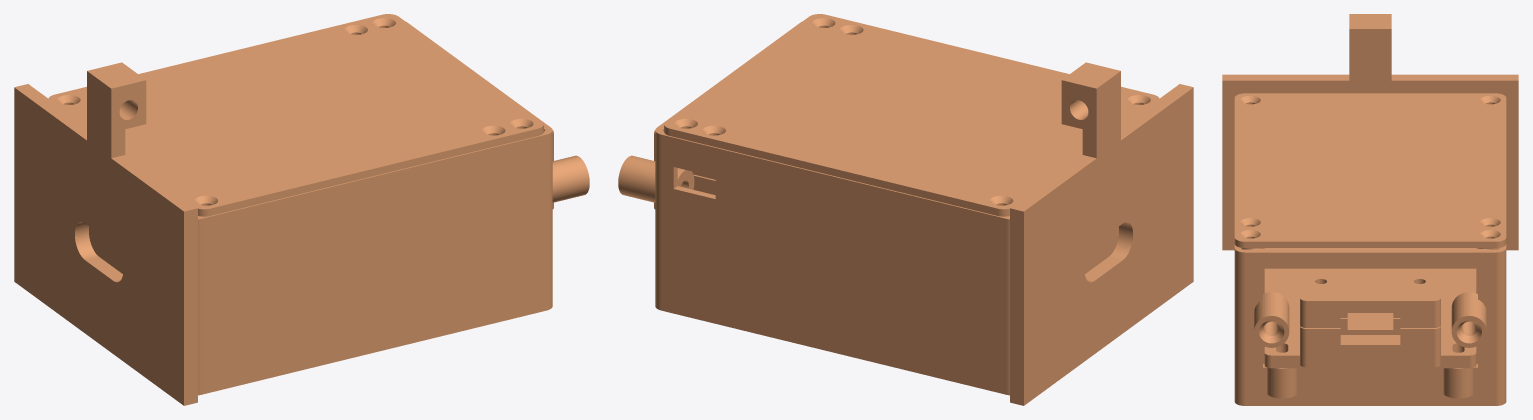
The model's file is battery-r02.glb.
3 views of the same model, side by side, from view 1: azimuth 30°, elevation 25°; view 2: azimuth 150°, elevation 25°; view 3: azimuth 270°, elevation 25° (orthographic). The views are drawn at different scales.
Visible parts, largest first — view 1: BatteryCartridge, BatteryServiceCover; view 2: BatteryCartridge, BatteryServiceCover; view 3: BatteryServiceCover, BatteryCartridge, BatteryXT60Cradle, BatteryXT60CradleCap.
Boxes of the visible parts, <box> form: BatteryCartridge: <box>14,22,589,405</box>; BatteryServiceCover: <box>48,14,543,216</box>; BatteryCartridge: <box>618,22,1193,405</box>; BatteryServiceCover: <box>664,14,1159,216</box>; BatteryServiceCover: <box>1234,93,1506,247</box>; BatteryCartridge: <box>1222,14,1518,405</box>; BatteryXT60Cradle: <box>1264,313,1476,368</box>; BatteryXT60CradleCap: <box>1300,268,1440,327</box>.
Bounding box in the file's own units: 0.121 × 0.072 × 0.084.
